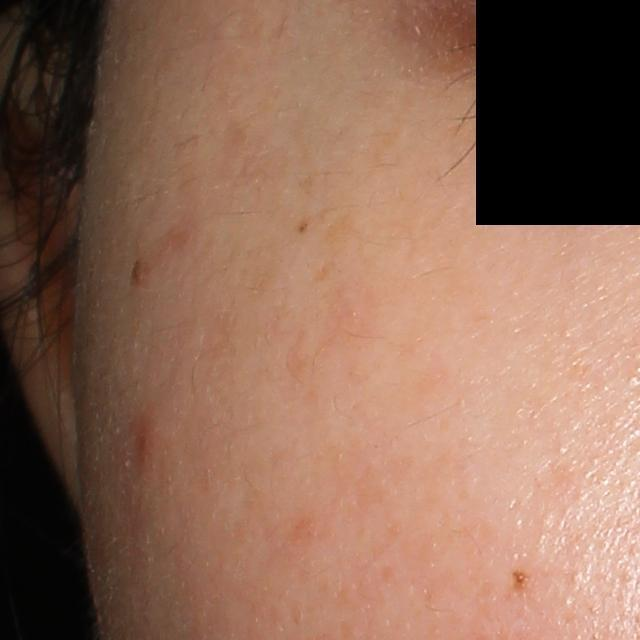nevus: (510, 566, 534, 596), (128, 258, 146, 287)
papule: (136, 422, 155, 464)
